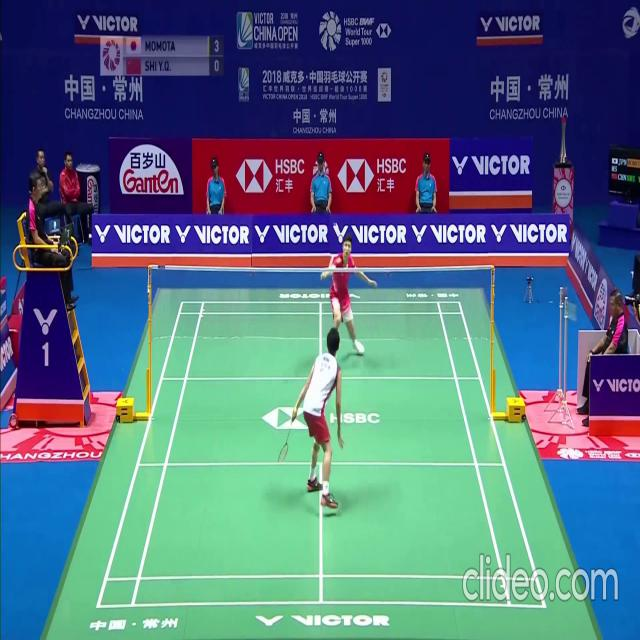Shuttlecock: (335, 224, 339, 232)
